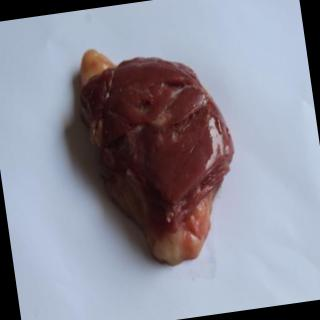Daging Sapi: (74, 32, 250, 275)
